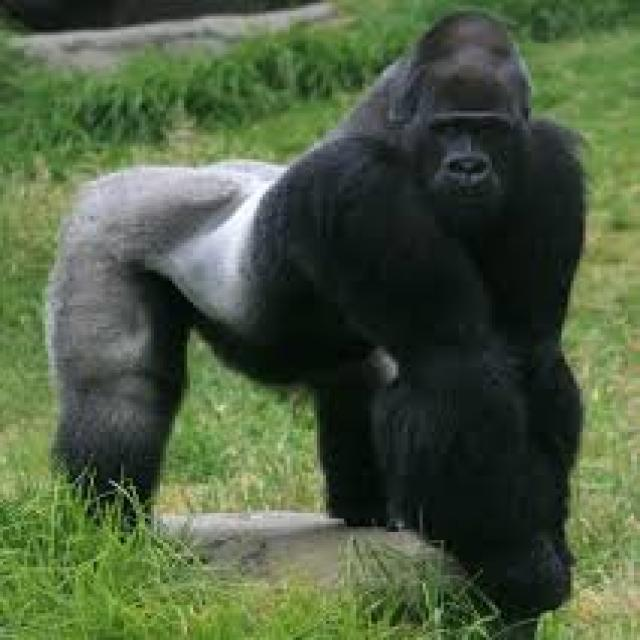Gorilla: (44, 12, 584, 626)
